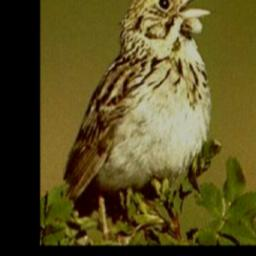Sparrow: (63, 0, 216, 243)
